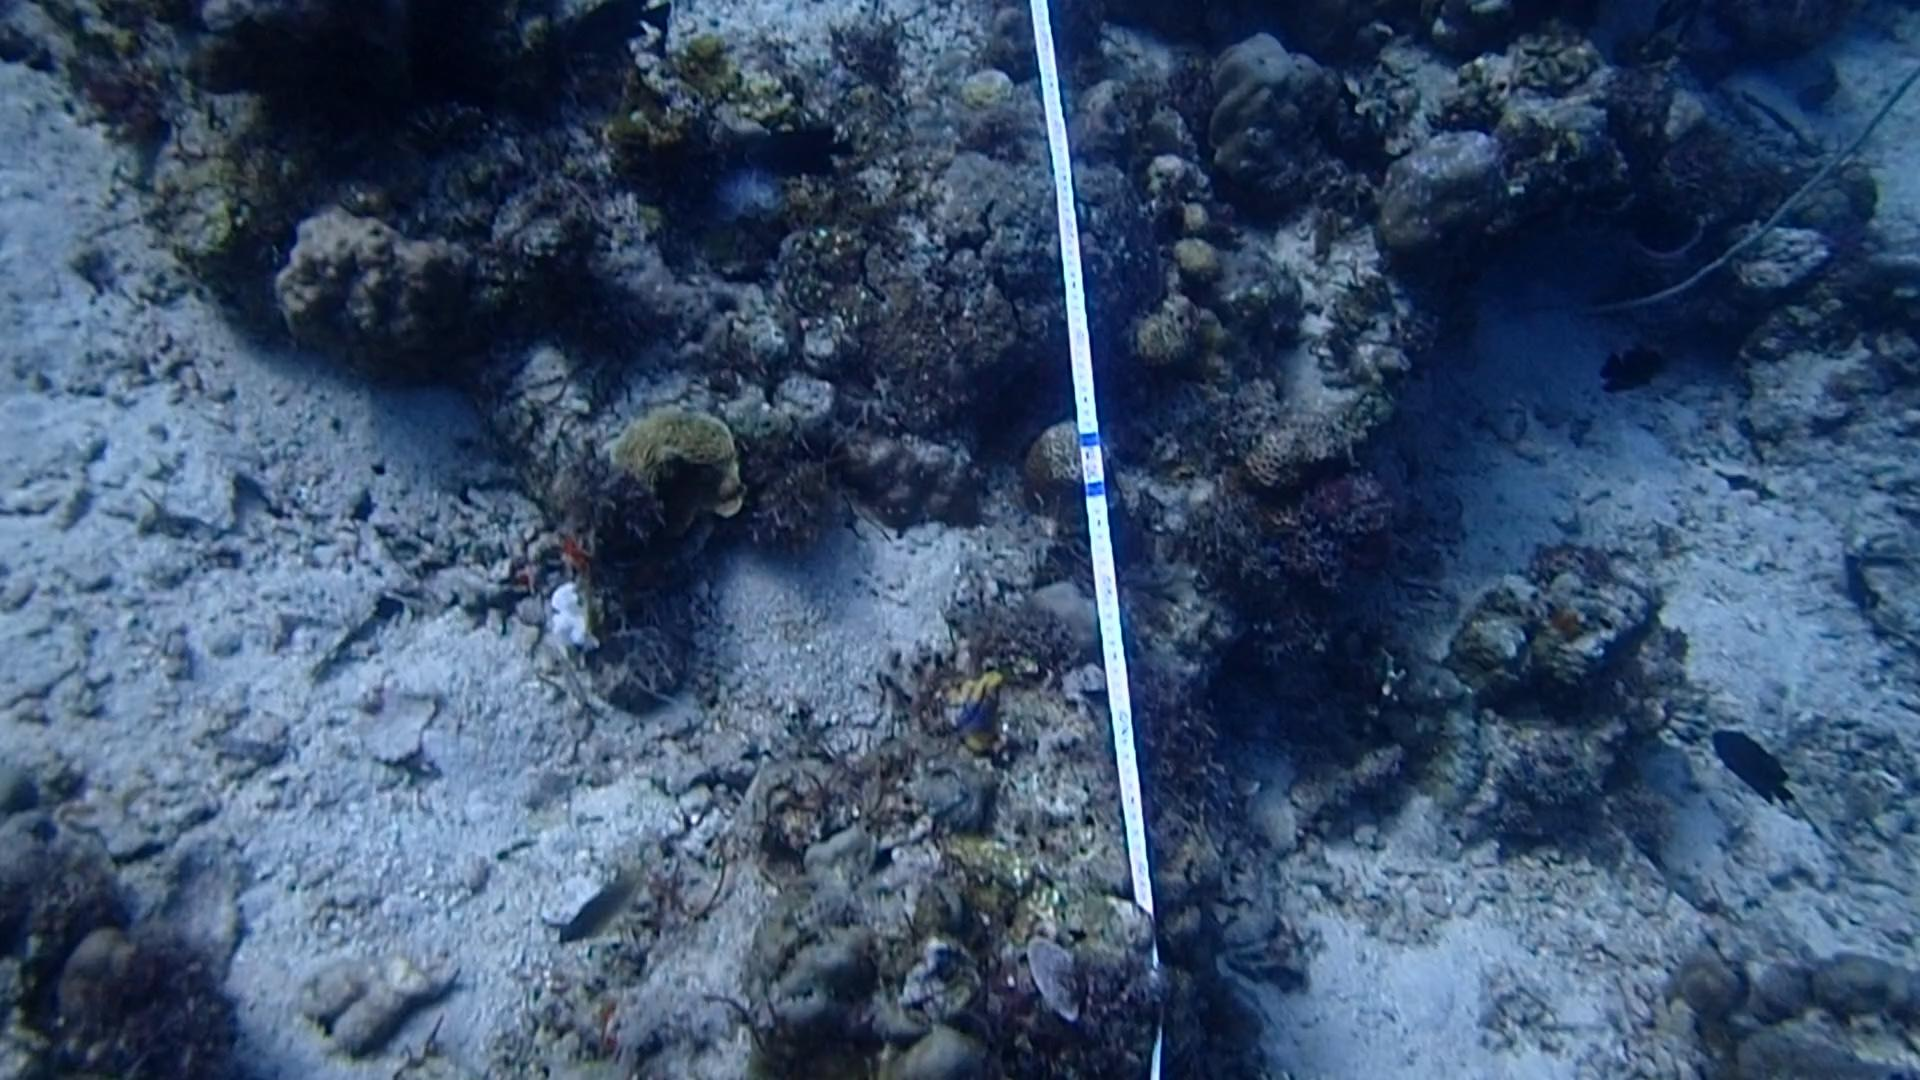Dark Fish: (1704, 712, 1799, 812), (744, 115, 845, 183), (1585, 334, 1668, 402), (564, 3, 673, 53)
Light Fish: (550, 853, 662, 952)
